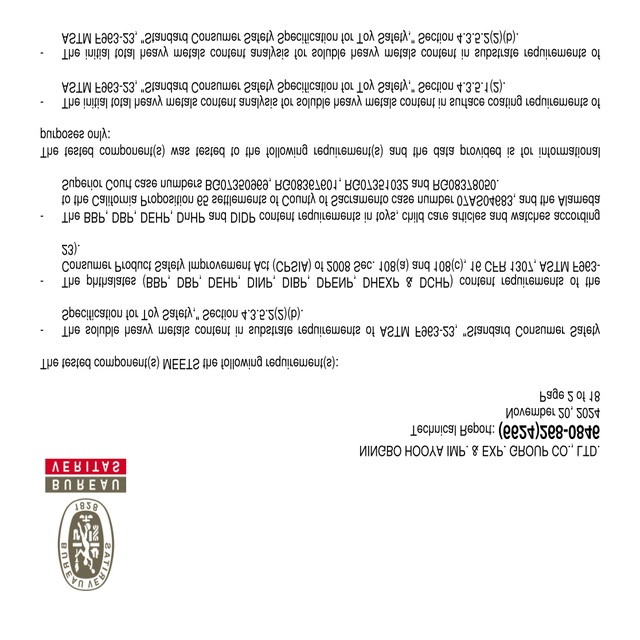bureau_veritas: (42, 453, 132, 593)
